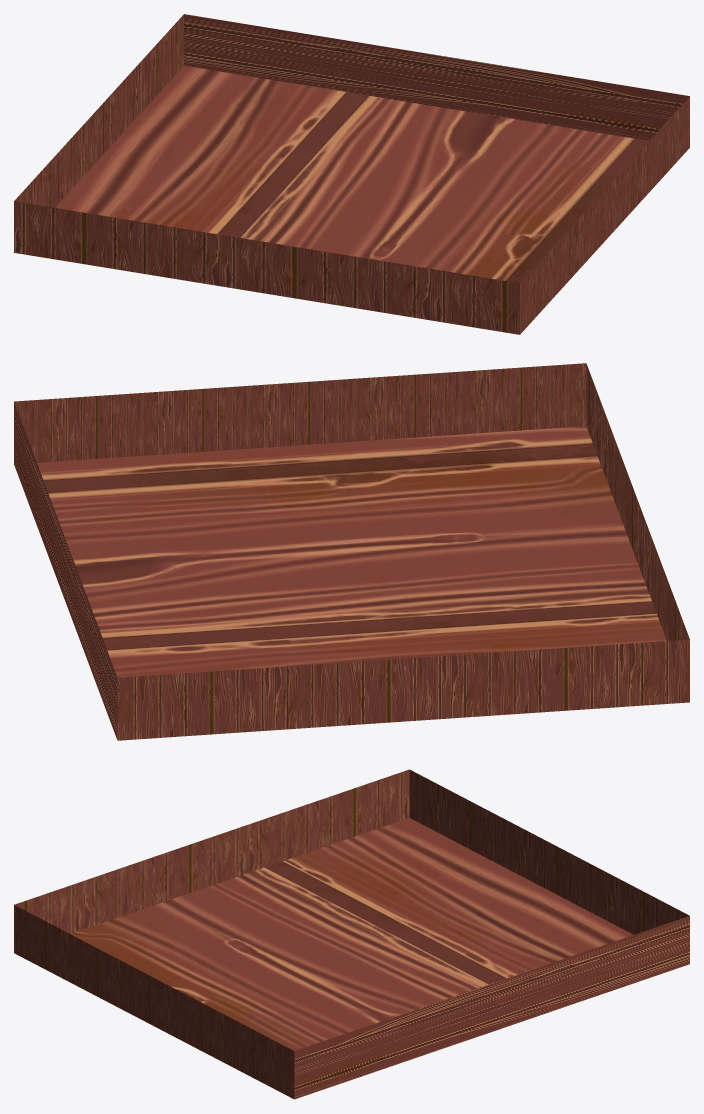
The picture shows the model from 3 angles, top to bottom: view 1: azimuth 30°, elevation 25°; view 2: azimuth 150°, elevation 25°; view 3: azimuth 270°, elevation 25°; orthographic projection. The views are drawn at different scales.
Visible parts, largest first — view 1: Cube.639; view 2: Cube.639; view 3: Cube.639.
Part boxes in pixels (x1,y1,x2,y2): Cube.639: (14, 14, 689, 334); Cube.639: (14, 363, 689, 740); Cube.639: (14, 769, 689, 1099).
Size of the model in its own units: 1942 by 156 by 1969.
Materials: 1 (1 with a texture image).
